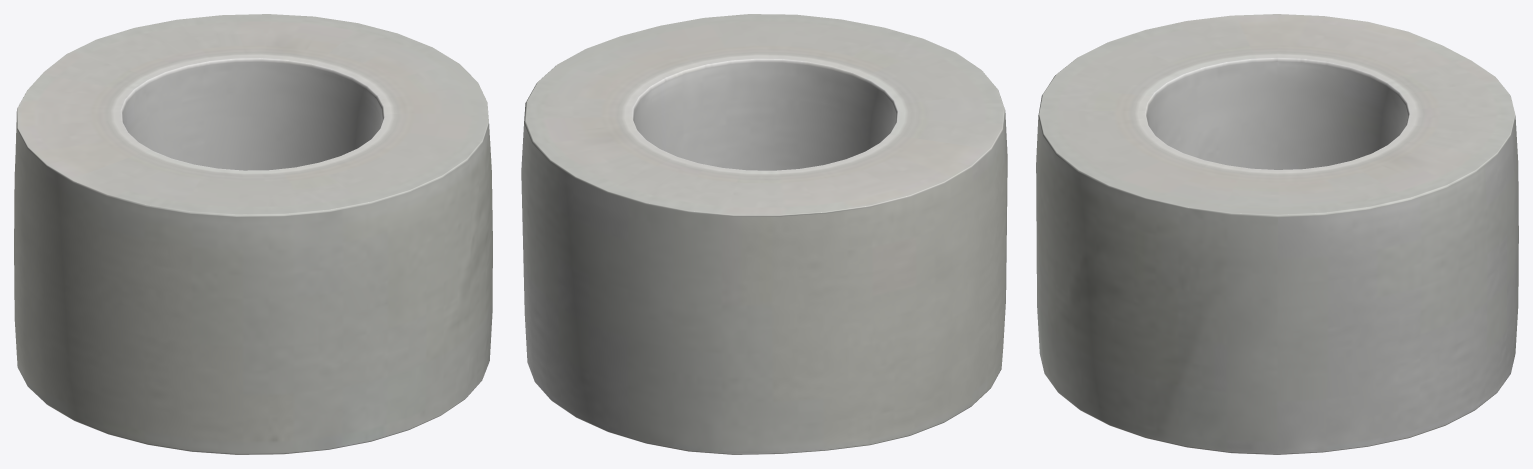
The model's file is medical_tape.glb.
The picture shows the model from 3 angles, left to right: view 1: azimuth 30°, elevation 25°; view 2: azimuth 150°, elevation 25°; view 3: azimuth 270°, elevation 25°; orthographic projection.
Parts seen in each view (by area): view 1: medical_tape; view 2: medical_tape; view 3: medical_tape.
Boxes of the visible parts, bbox=[...] form: medical_tape: bbox=[14, 14, 492, 454]; medical_tape: bbox=[521, 14, 1007, 454]; medical_tape: bbox=[1036, 14, 1518, 454].
Bounding box in the file's own units: 0.0453 × 0.025 × 0.0452.
Materials: 1 (1 with a texture image).
